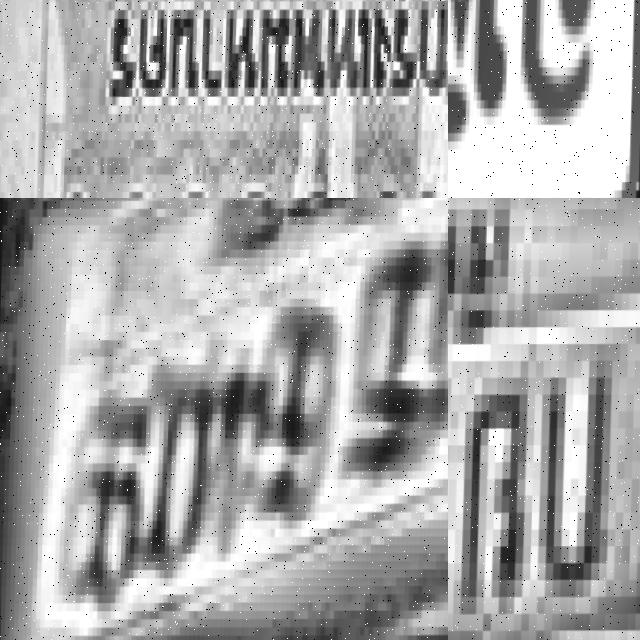license-plate: (0, 198, 448, 640), (0, 0, 448, 198), (448, 198, 640, 640), (448, 0, 640, 198)
